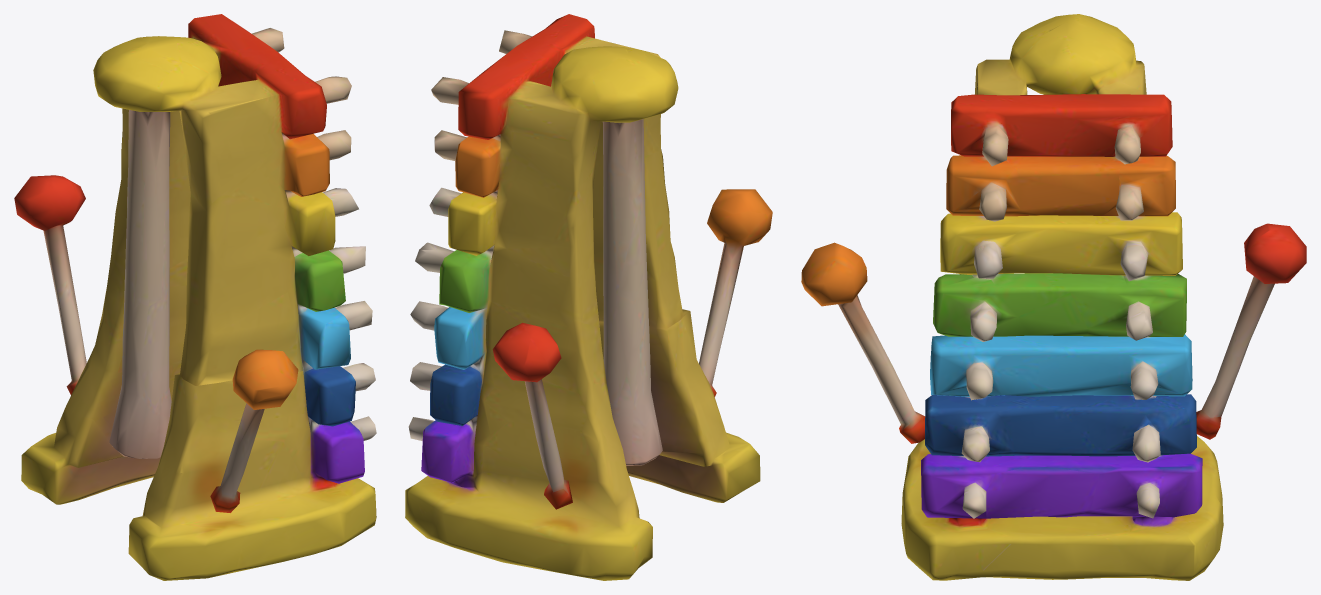
The model's file is xylophone.glb.
3 views of the same model, side by side, from view 1: azimuth 30°, elevation 25°; view 2: azimuth 150°, elevation 25°; view 3: azimuth 270°, elevation 25° (orthographic). The views are drawn at different scales.
Visible parts, largest first — view 1: tripo_node_86350661-7ed4-40f3-9db6-1dcc0039c1ad; view 2: tripo_node_86350661-7ed4-40f3-9db6-1dcc0039c1ad; view 3: tripo_node_86350661-7ed4-40f3-9db6-1dcc0039c1ad.
Part boxes in pixels (x1,y1,x2,y2): tripo_node_86350661-7ed4-40f3-9db6-1dcc0039c1ad: (14, 14, 376, 580); tripo_node_86350661-7ed4-40f3-9db6-1dcc0039c1ad: (405, 14, 772, 580); tripo_node_86350661-7ed4-40f3-9db6-1dcc0039c1ad: (801, 14, 1306, 580).
Size of the model in its own units: 0.5426 by 1 by 0.9398.
Materials: 1 (1 with a texture image).
